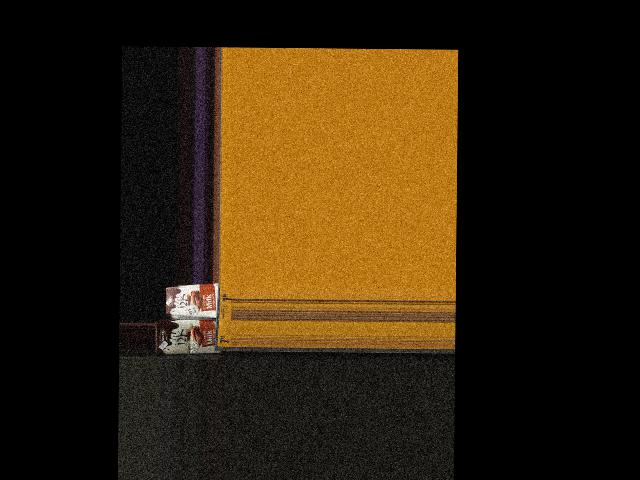chocolate: (163, 279, 225, 317)
